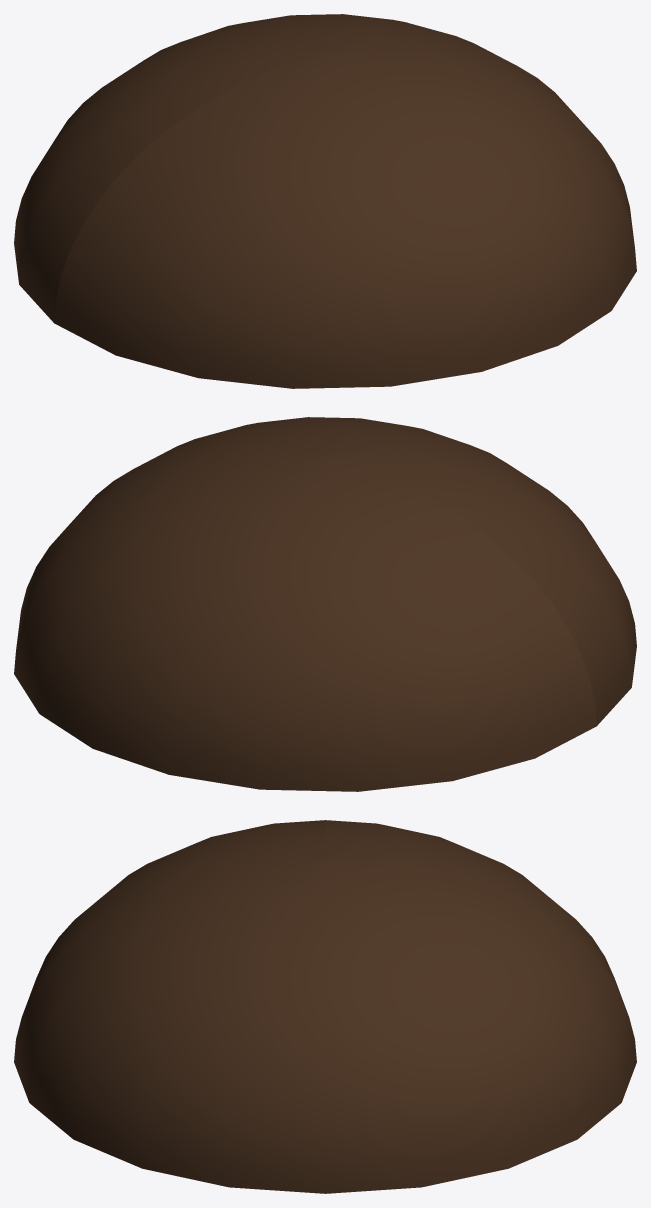
The model's file is hair-short.glb.
The picture shows the model from 3 angles, top to bottom: view 1: azimuth 30°, elevation 25°; view 2: azimuth 150°, elevation 25°; view 3: azimuth 270°, elevation 25°; orthographic projection.
Parts seen in each view (by area): view 1: hair-short; view 2: hair-short; view 3: hair-short.
Part boxes in pixels (x1,y1,x2,y2): hair-short: (14,14,636,388); hair-short: (14,417,636,791); hair-short: (14,820,636,1193).
Size of the model in its own units: 0.7 by 0.252 by 0.7.
